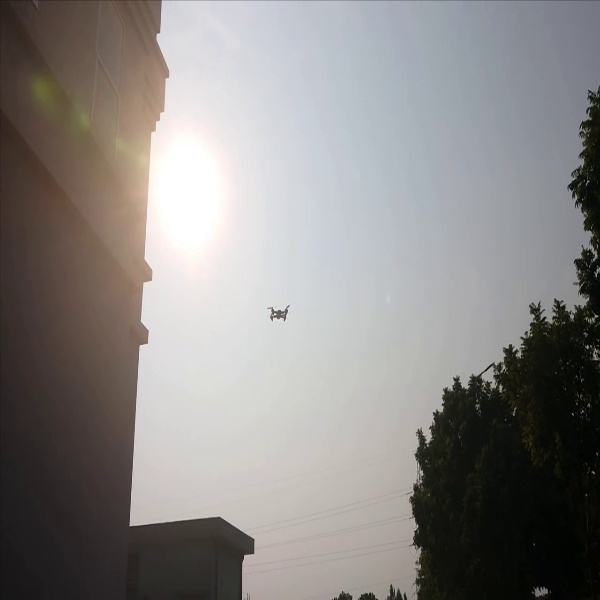drone: (259, 289, 297, 331)
